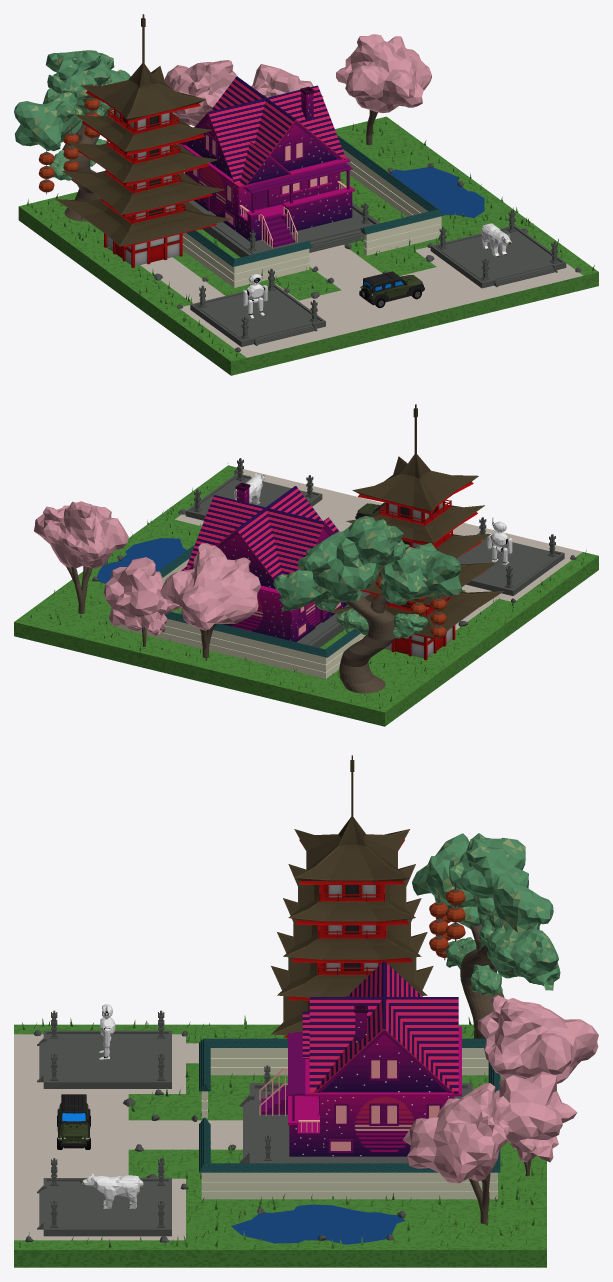
3 renders of one model, top to bottom at view 1: azimuth 30°, elevation 25°; view 2: azimuth 150°, elevation 25°; view 3: azimuth 270°, elevation 25°, orthographic. The views are drawn at different scales.
Parts seen in each view (by area): view 1: Cube.005, Cube.156, VEHICLES_JEEP, OBJRANDOM_PLATZEEBOT, ANIMAL_OSO_POLAR; view 2: Cube.005, Cube.156, OBJRANDOM_PLATZEEBOT; view 3: Cube.005, Cube.156, VEHICLES_JEEP, ANIMAL_OSO_POLAR.
Part boxes in pixels (x1=…): Cube.005: x1=14, y1=14, x2=598, y2=375; Cube.156: x1=179, y1=76, x2=354, y2=248; VEHICLES_JEEP: x1=359, y1=271, x2=424, y2=308; OBJRANDOM_PLATZEEBOT: x1=243, y1=269, x2=267, y2=318; ANIMAL_OSO_POLAR: x1=481, y1=223, x2=511, y2=257; Cube.005: x1=14, y1=404, x2=598, y2=726; Cube.156: x1=181, y1=482, x2=347, y2=642; OBJRANDOM_PLATZEEBOT: x1=487, y1=517, x2=512, y2=565; Cube.005: x1=14, y1=755, x2=598, y2=1267; Cube.156: x1=259, y1=961, x2=461, y2=1156; VEHICLES_JEEP: x1=57, y1=1094, x2=90, y2=1149; ANIMAL_OSO_POLAR: x1=80, y1=1173, x2=143, y2=1208.
Bounding box in the file's own units: 4528 × 2690 × 4389.
38 materials, 7 textured.
